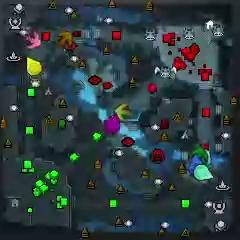p1: (187, 153, 204, 175)
p2: (194, 165, 214, 181)
p3: (103, 115, 121, 134)
p4: (25, 56, 43, 76)
x1: (25, 32, 41, 50)
x2: (115, 104, 133, 122)
x3: (202, 148, 212, 167)
x4: (191, 147, 207, 160)
x5: (58, 31, 72, 47)
